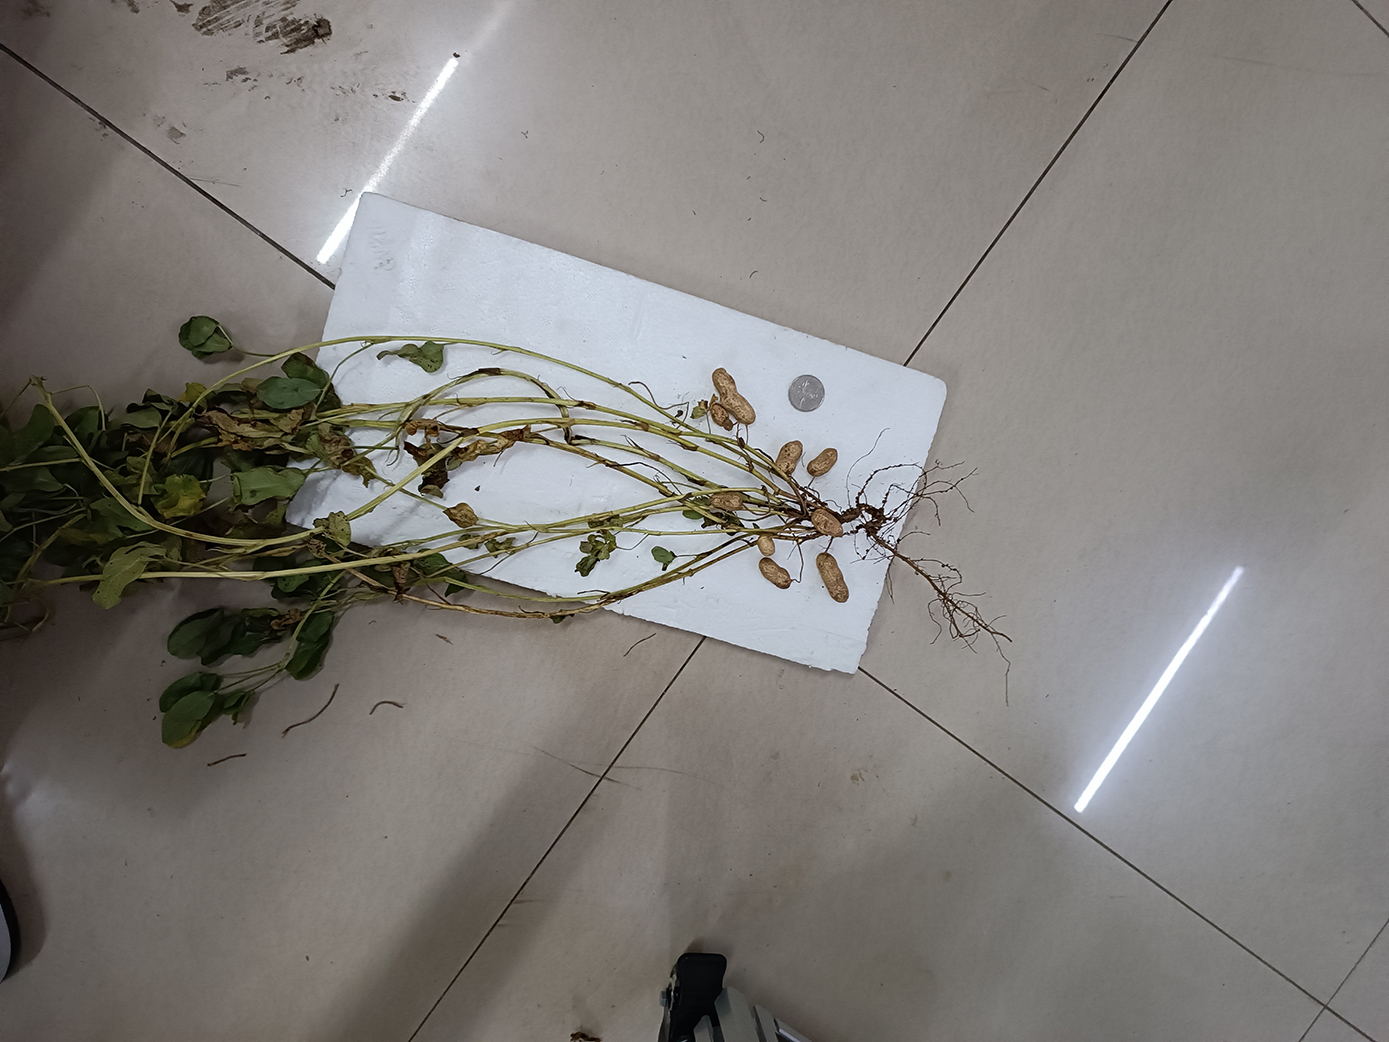h: (713, 367, 759, 425), (817, 551, 850, 604), (774, 440, 805, 475), (806, 448, 838, 478), (811, 508, 844, 539), (759, 558, 791, 589), (710, 493, 744, 511), (756, 534, 775, 557)
l: (710, 406, 733, 431)
